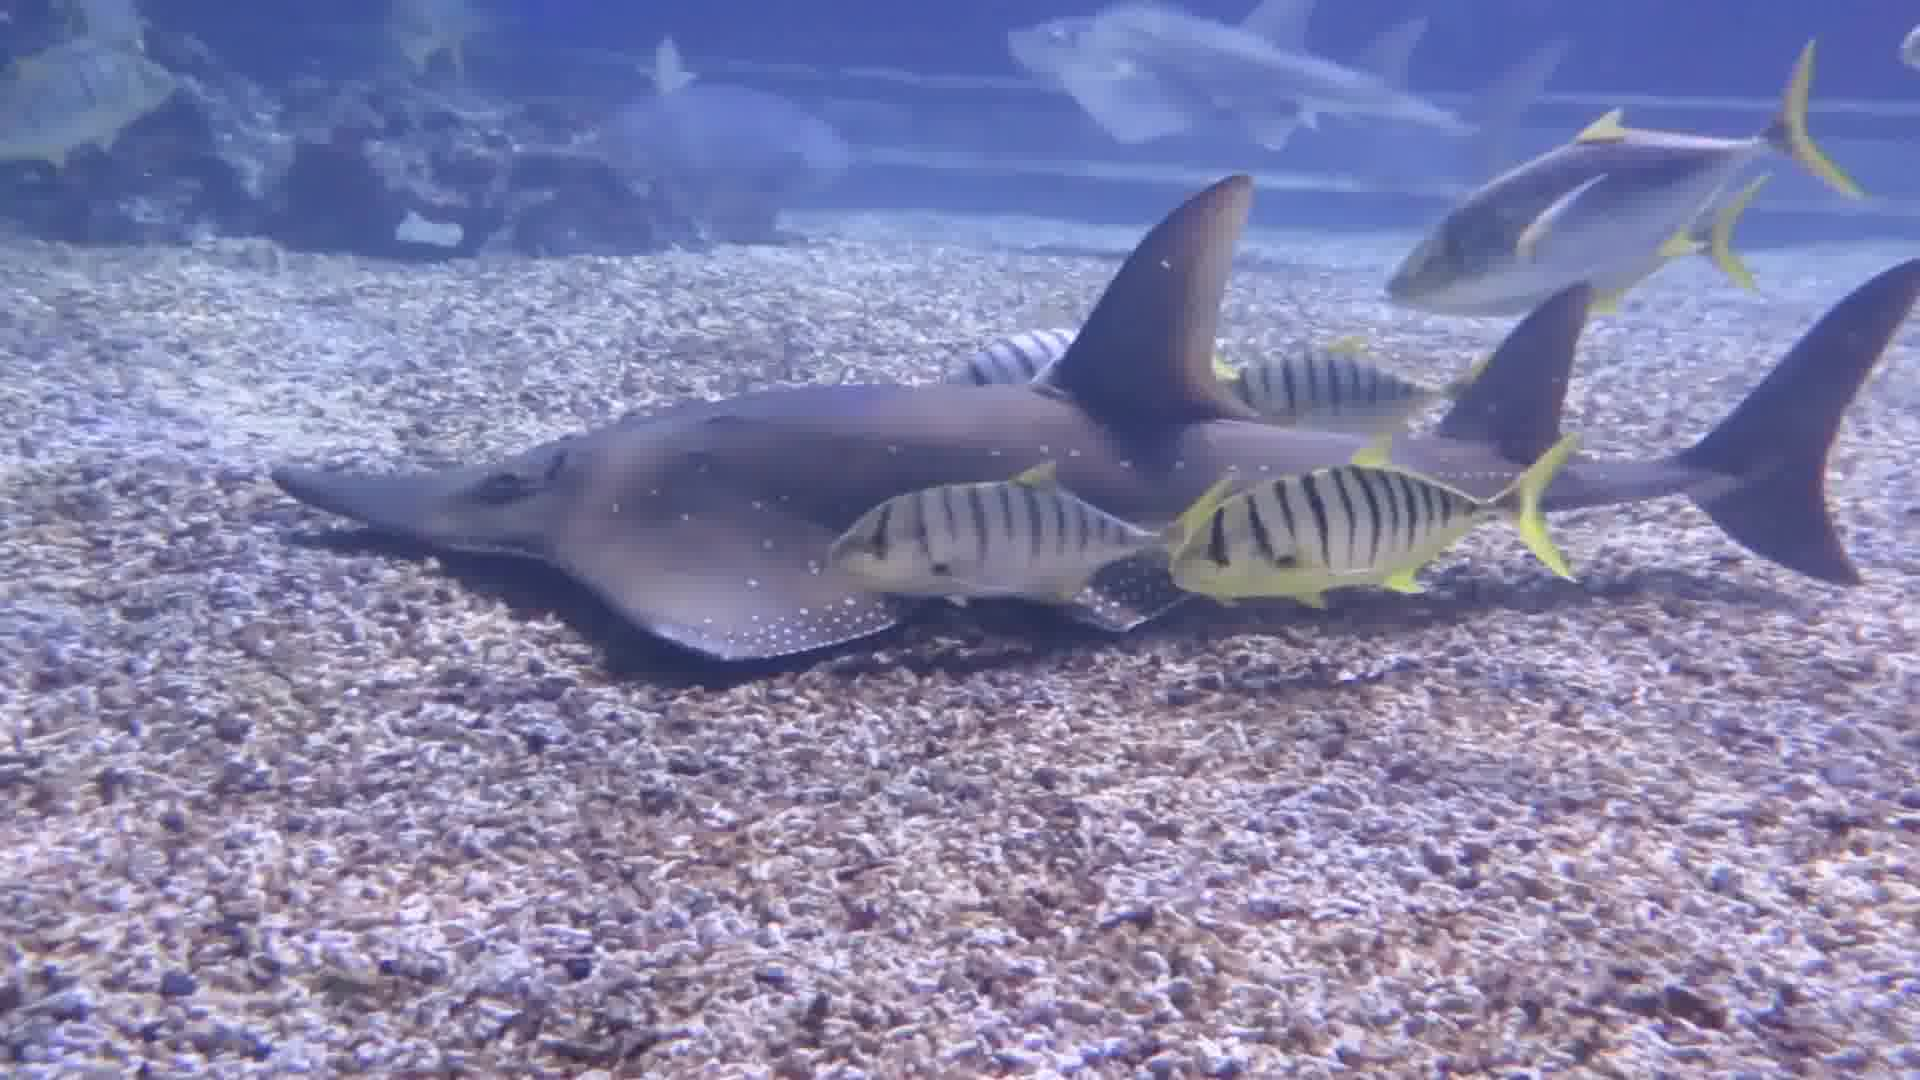Rhychobatus djiddensis: (258, 178, 1908, 657)
